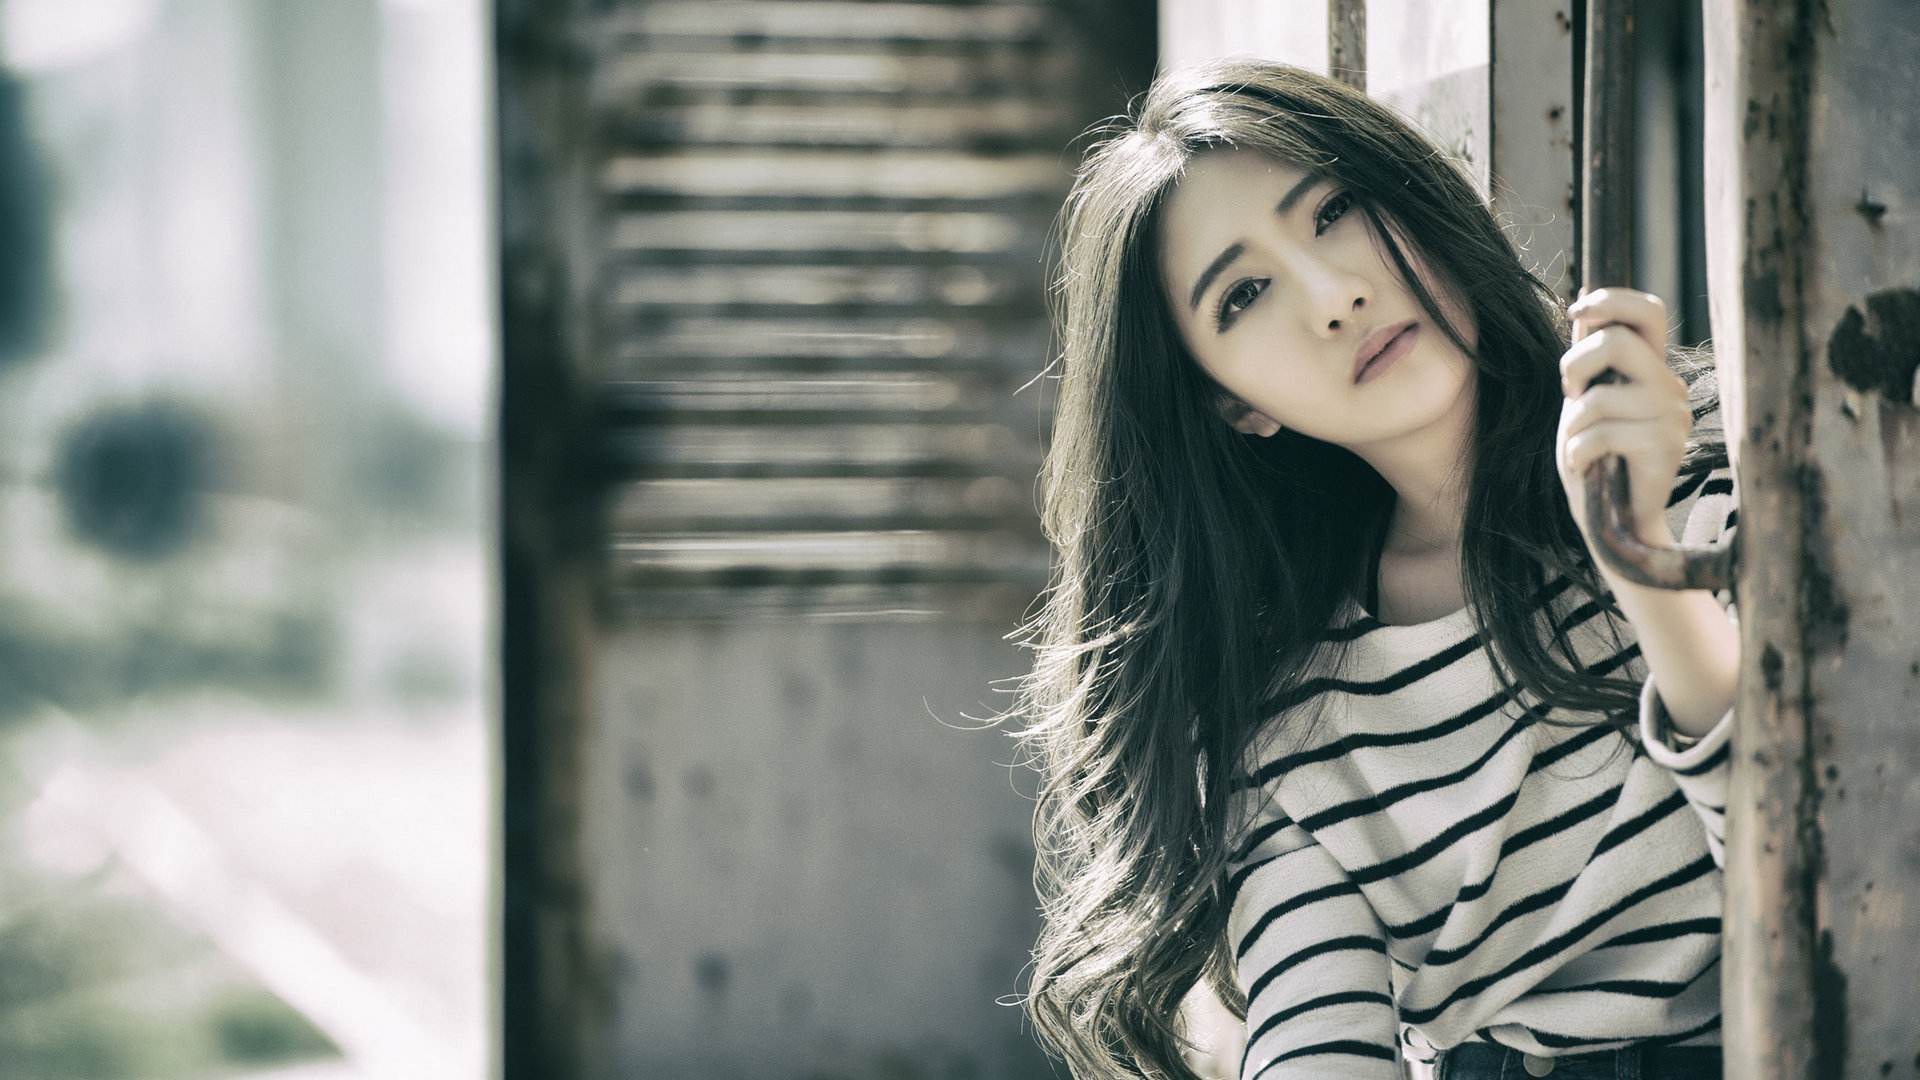person: (1070, 89, 1741, 984)
